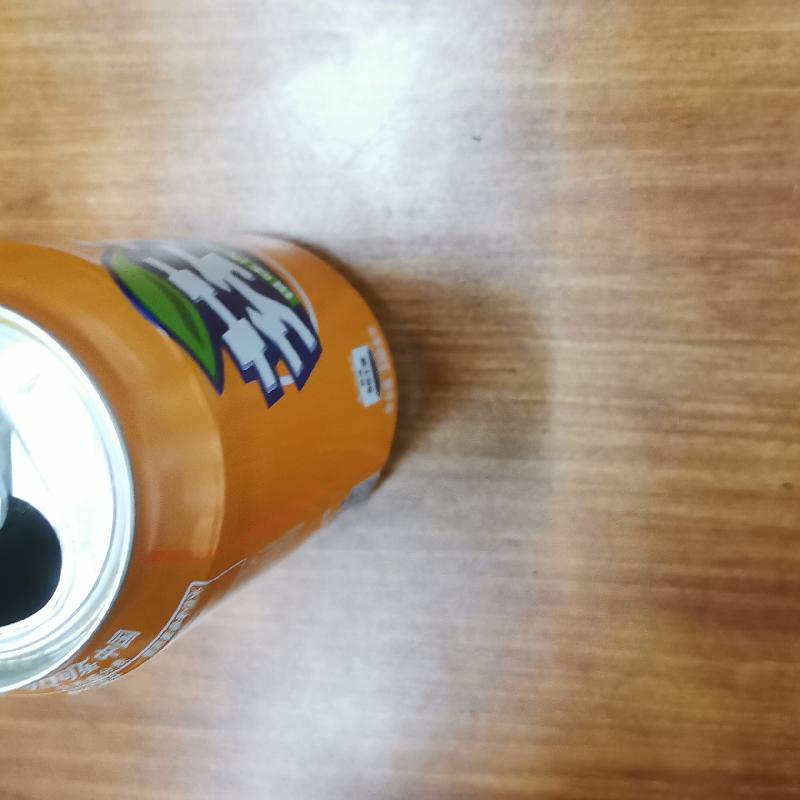cans: (3, 227, 403, 705)
